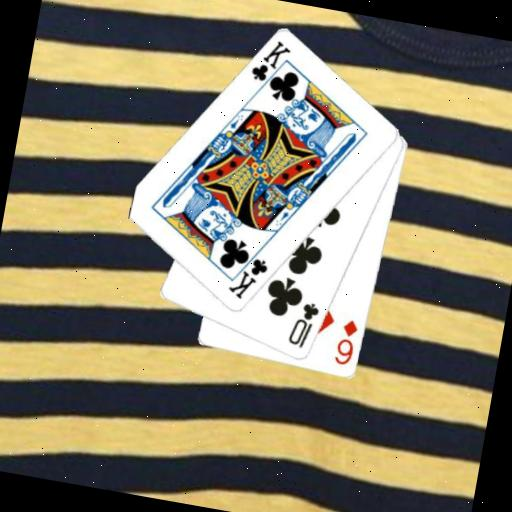10C: (284, 296, 323, 352)
6D: (331, 315, 361, 369)
KC: (223, 242, 273, 305), (245, 34, 294, 98)
